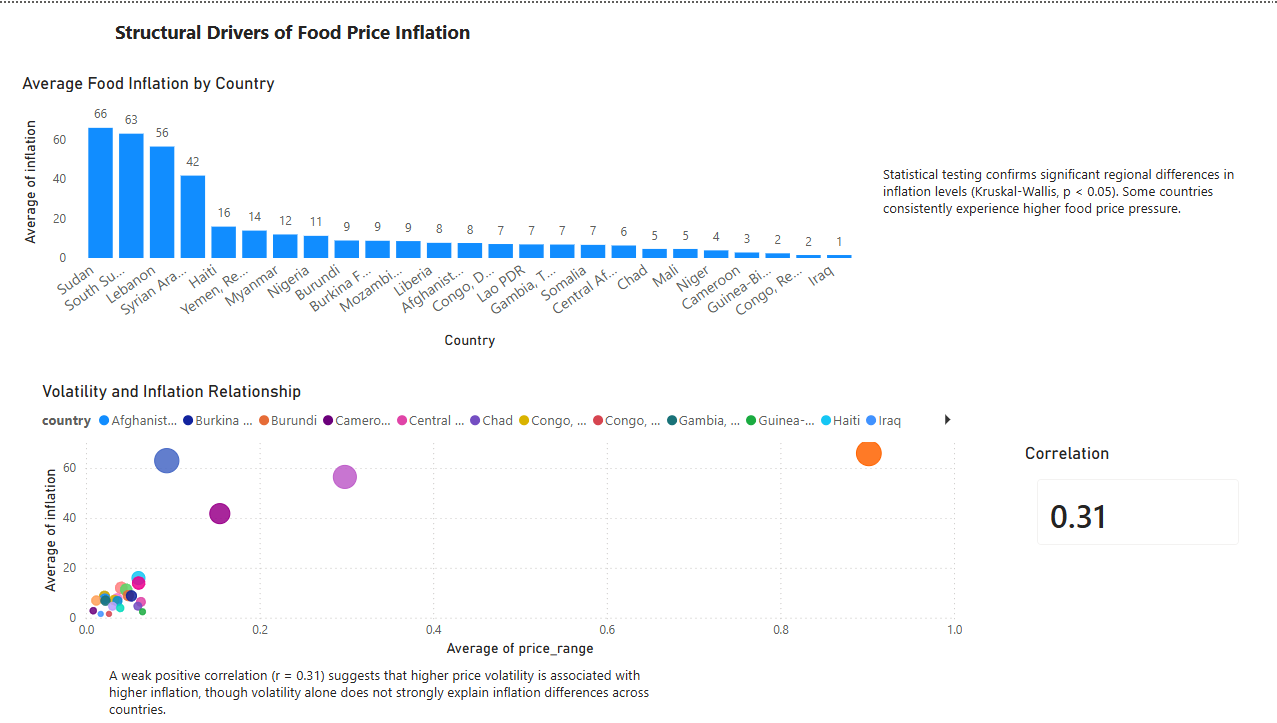

This screenshot's page, from the dashboard's own definition file:
{"tool":"powerbi","page":{"name":"Regional & Volatility","canvas":[1280,720],"ordinal":1},"visuals":[{"type":"clusteredColumnChart","title":"Average Food Inflation by Country","fields":{"Category":["food_prices_cleaned.country"],"Y":["Avg(food_prices_cleaned.inflation)"]},"box":[17.5,70,852,280.1],"z":0},{"type":"textbox","box":[879.3,156.6,377.4,107],"z":2},{"type":"scatterChart","title":"Volatility and Inflation Relationship","fields":{"X":["Avg(food_prices_cleaned.price_range)"],"Y":["Avg(food_prices_cleaned.inflation)"],"Series":["food_prices_cleaned.country"],"Size":["Avg(food_prices_cleaned.inflation)"]},"box":[37.9,378.4,929.8,280.1],"z":3},{"type":"textbox","box":[83.6,10.7,419.2,46.7],"z":4},{"type":"textbox","box":[105,658.5,573.9,61.3],"z":5},{"type":"cardVisual","title":"Correlation ","fields":{"Data":["food_prices_cleaned.Correlation"]},"box":[1021.3,439.6,235.4,119.6],"z":6}]}

Visuals, with their boxes in screenshot pixels (x1, y1, x2, y2), scaled from the page's 1280x720 canvas onto the 1277x723 screenshot:
"Average Food Inflation by Country" clusteredColumnChart: x1=17 y1=70 x2=867 y2=352
textbox: x1=877 y1=157 x2=1254 y2=265
"Volatility and Inflation Relationship" scatterChart: x1=38 y1=380 x2=965 y2=661
textbox: x1=83 y1=11 x2=502 y2=58
textbox: x1=105 y1=661 x2=677 y2=722
"Correlation " cardVisual: x1=1019 y1=441 x2=1254 y2=562
